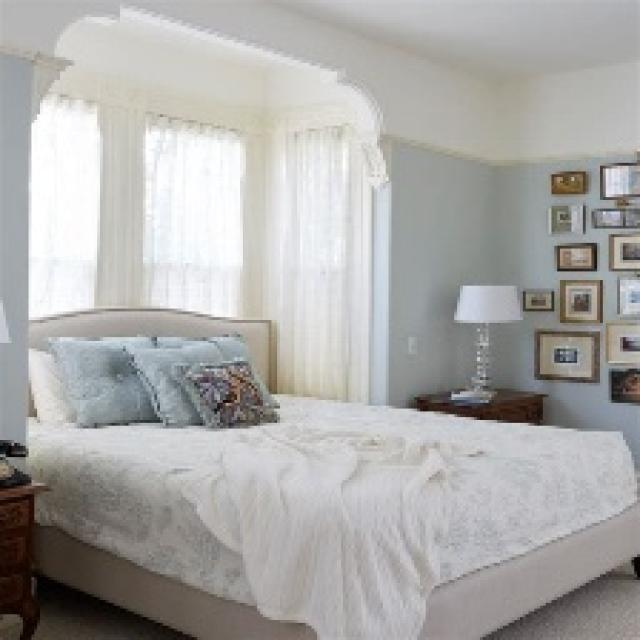Bed: (23, 306, 637, 637)
